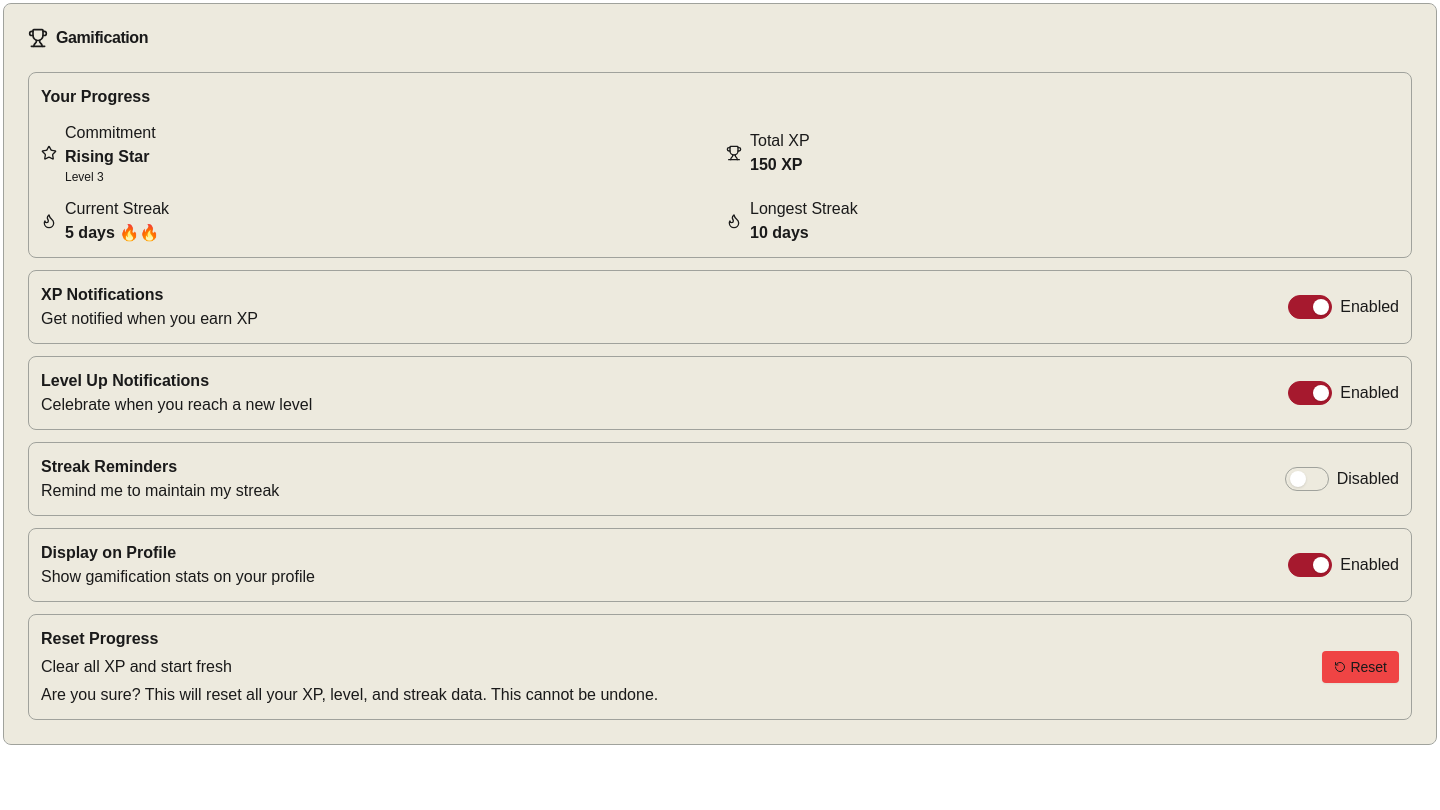
Test: GamificationSettings › opens reset confirmation dialog when reset button is clicked
What coordinates should you click on to do the following:
click the button with test id "reset-progress-button"
I would click on:
 (1361, 667)
Its box is [1322,651,1399,683].
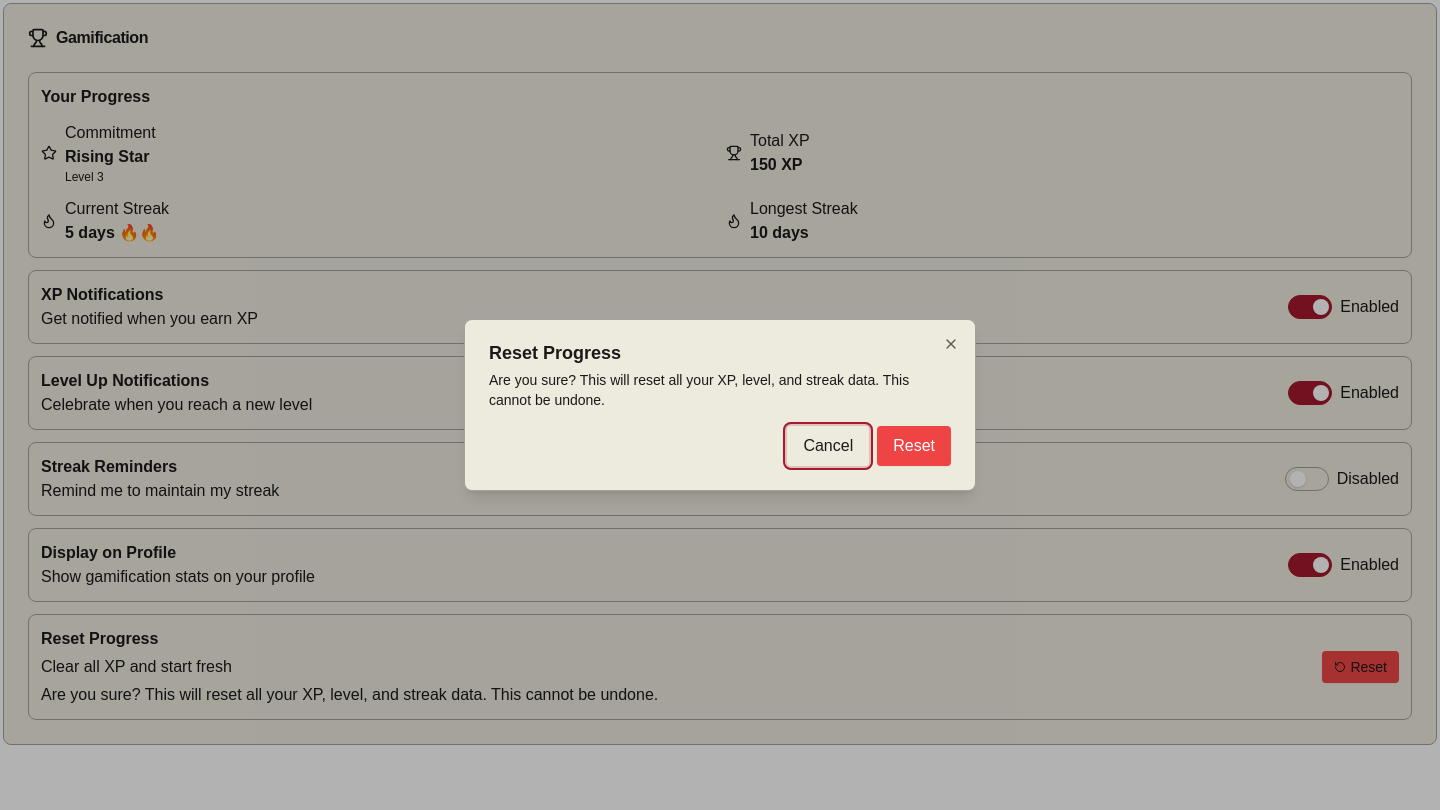
Result: the dialog is shown at [464,319,976,491]
Result: the text "Are you sure? This will reset all your XP, level, and streak data. This cannot be undone." is shown at [489,372,909,408]
